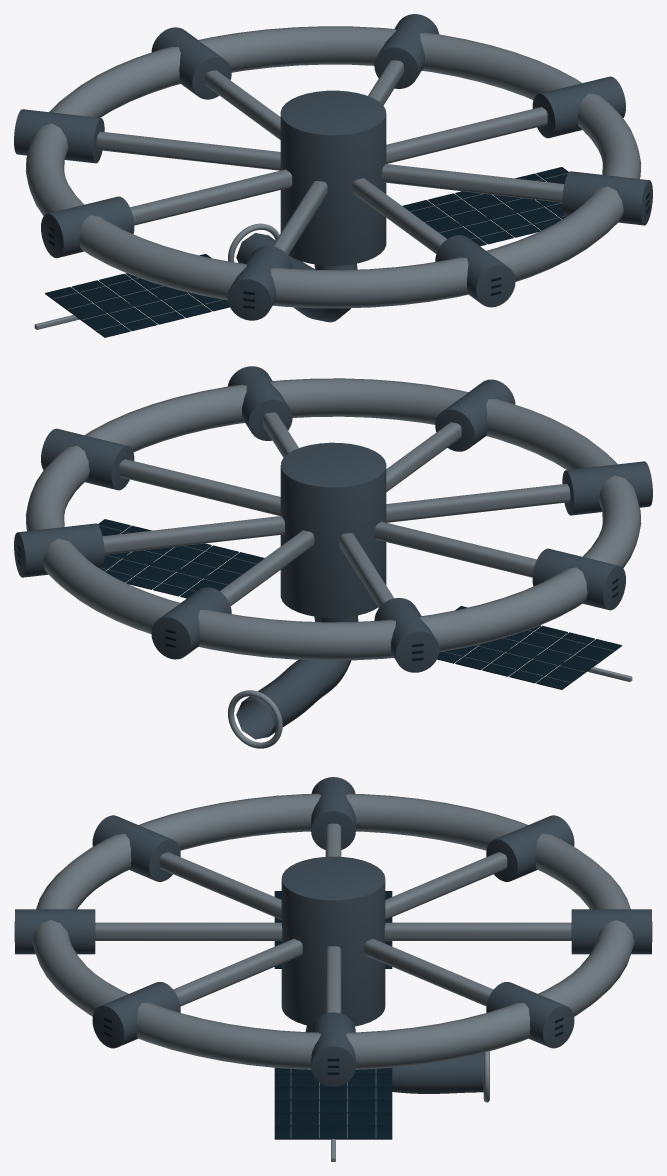
The model's file is orbital-station.glb.
3 renders of one model, top to bottom at view 1: azimuth 30°, elevation 25°; view 2: azimuth 150°, elevation 25°; view 3: azimuth 270°, elevation 25°, orthographic.
Visible parts, largest first — view 1: HabitatRing, CentralPressureHub, RadialPressureTunnel.001, RadialPressureTunnel.005, RadialPressureTunnel.006, RadialPressureTunnel.002, HabitatModule.002, HabitatModule.001, HabitatModule.004, HabitatModule.005, HabitatModule.006, HabitatModule.003 (+16 smaller); view 2: HabitatRing, CentralPressureHub, DockAccessTunnel, RadialPressureTunnel.003, RadialPressureTunnel.007, RadialPressureTunnel.006, RadialPressureTunnel.002, HabitatModule.002, HabitatModule.003, HabitatModule, HabitatModule.007, HabitatModule.006 (+16 smaller); view 3: HabitatRing, CentralPressureHub, RadialPressureTunnel, RadialPressureTunnel.004, DockAccessTunnel, HabitatModule.005, HabitatModule.007, HabitatModule.006, HabitatModule, HabitatModule.004, HabitatModule.001, HabitatModule.003 (+12 smaller).
Part boxes in pixels (left/top/right/bottom): HabitatRing: left=25, top=26, right=641, bottom=308; CentralPressureHub: left=280, top=90, right=386, bottom=265; RadialPressureTunnel.001: left=96, top=131, right=280, bottom=170; RadialPressureTunnel.005: left=382, top=164, right=564, bottom=202; RadialPressureTunnel.006: left=386, top=107, right=547, bottom=163; RadialPressureTunnel.002: left=130, top=169, right=292, bottom=225; HabitatModule.002: left=41, top=196, right=134, bottom=258; HabitatModule.001: left=14, top=109, right=104, bottom=163; HabitatModule.004: left=435, top=235, right=515, bottom=307; HabitatModule.005: left=562, top=171, right=652, bottom=225; HabitatModule.006: left=532, top=76, right=625, bottom=138; HabitatModule.003: left=227, top=245, right=292, bottom=320; HabitatRing: left=25, top=378, right=641, bottom=660; CentralPressureHub: left=280, top=442, right=386, bottom=617; DockAccessTunnel: left=236, top=615, right=358, bottom=739; RadialPressureTunnel.003: left=386, top=483, right=570, bottom=522; RadialPressureTunnel.007: left=102, top=516, right=284, bottom=554; RadialPressureTunnel.006: left=119, top=459, right=280, bottom=515; RadialPressureTunnel.002: left=374, top=521, right=536, bottom=577; HabitatModule.002: left=532, top=548, right=625, bottom=610; HabitatModule.003: left=562, top=461, right=652, bottom=515; HabitatModule: left=151, top=587, right=231, bottom=659; HabitatModule.007: left=14, top=523, right=104, bottom=577; HabitatModule.006: left=41, top=428, right=134, bottom=490; HabitatRing: left=32, top=793, right=634, bottom=1069; CentralPressureHub: left=281, top=856, right=385, bottom=1026; RadialPressureTunnel: left=384, top=922, right=571, bottom=940; RadialPressureTunnel.004: left=95, top=922, right=282, bottom=940; DockAccessTunnel: left=305, top=1025, right=483, bottom=1093; HabitatModule.005: left=92, top=982, right=180, bottom=1048; HabitatModule.007: left=486, top=982, right=574, bottom=1048; HabitatModule.006: left=311, top=1012, right=355, bottom=1086; HabitatModule: left=571, top=909, right=651, bottom=954; HabitatModule.004: left=15, top=909, right=95, bottom=954; HabitatModule.001: left=486, top=815, right=574, bottom=881; HabitatModule.003: left=92, top=815, right=180, bottom=881.
Bounding box in the file's own units: 28.6 × 10.35 × 27.08.
